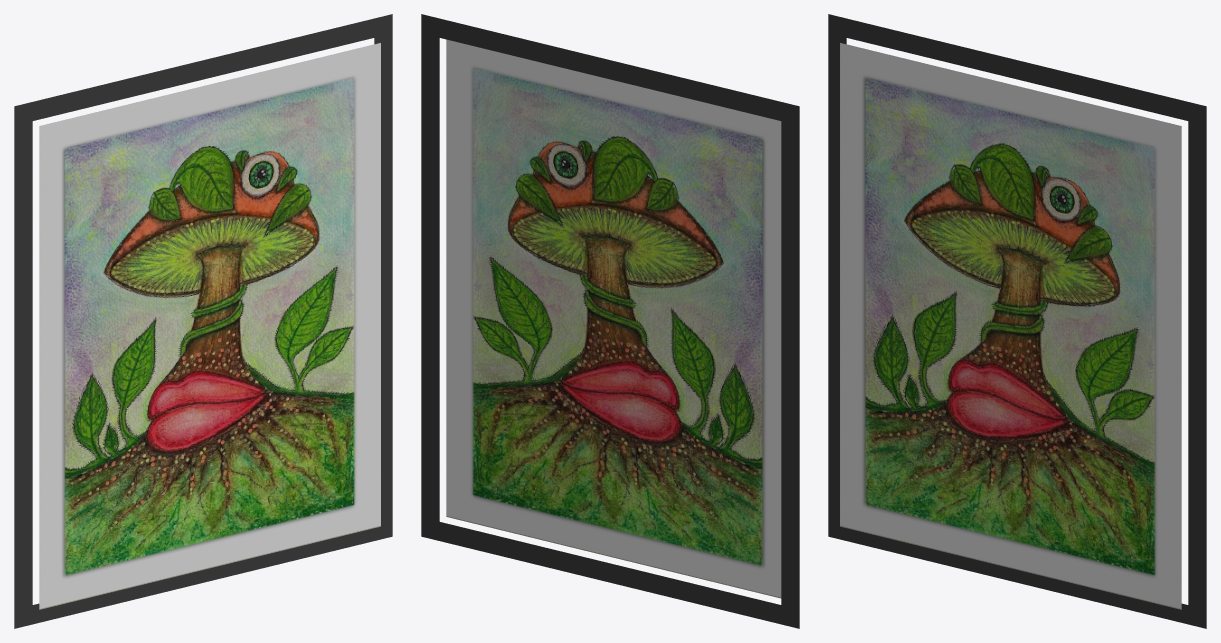
3 views of the same model, side by side, from view 1: azimuth 30°, elevation 25°; view 2: azimuth 150°, elevation 25°; view 3: azimuth 330°, elevation 25° (orthographic).
Parts seen in each view (by area): view 1: painting; view 2: painting; view 3: painting.
Part boxes in pixels (left/top/right/bottom): painting: left=14, top=14, right=392, bottom=628; painting: left=421, top=14, right=799, bottom=628; painting: left=828, top=14, right=1206, bottom=628.
Bounding box in the file's own units: 1.23 × 1.62 × 0.0375.
2 materials, 1 textured.
